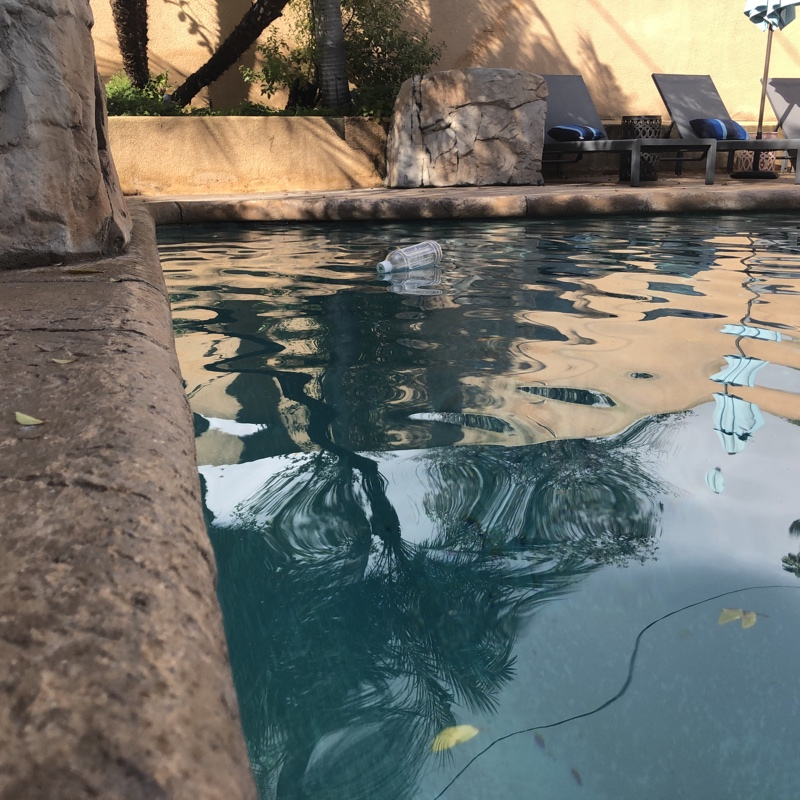Plastic Bottle: (374, 239, 446, 275)
